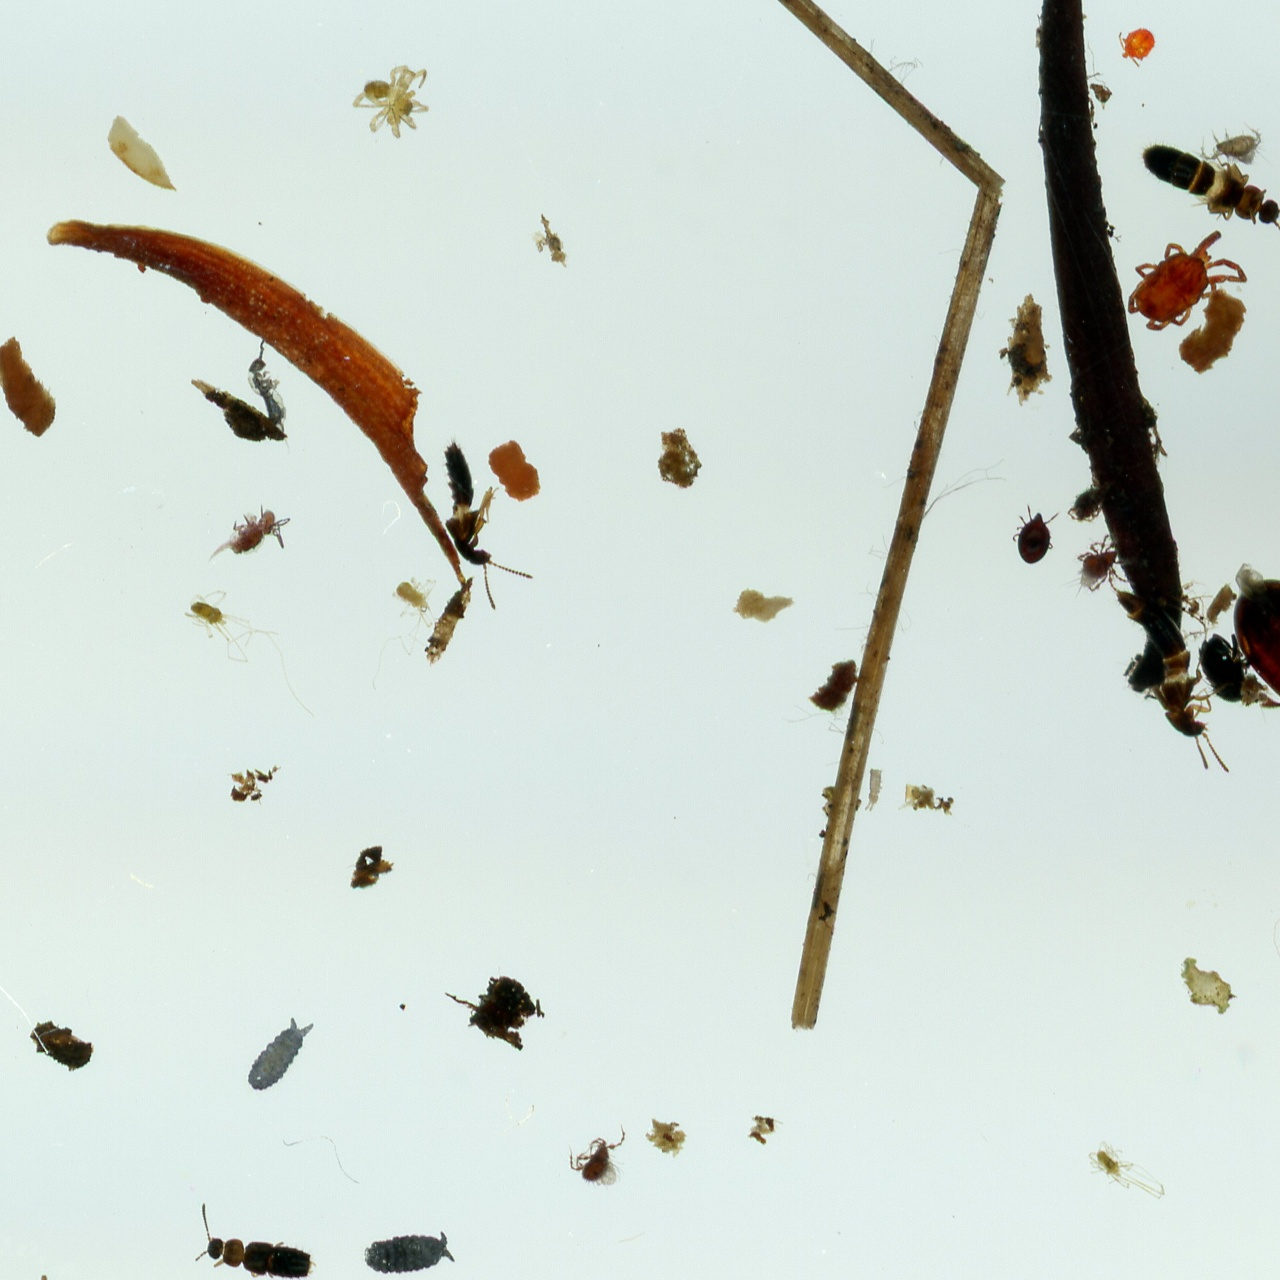arthropod: (1114, 591, 1231, 773), (183, 589, 316, 718), (1143, 142, 1280, 263), (444, 440, 535, 610), (1128, 229, 1250, 331), (195, 1202, 316, 1280), (370, 577, 439, 692), (1234, 563, 1280, 732), (353, 64, 429, 141), (1086, 1137, 1167, 1201), (247, 1016, 314, 1091), (209, 502, 292, 562), (249, 334, 288, 432), (363, 1233, 456, 1274), (1198, 632, 1249, 704), (569, 1125, 626, 1188), (1072, 535, 1131, 595), (1012, 505, 1060, 565), (1202, 122, 1264, 165), (1118, 26, 1157, 68), (1069, 483, 1108, 520), (863, 768, 884, 811)
